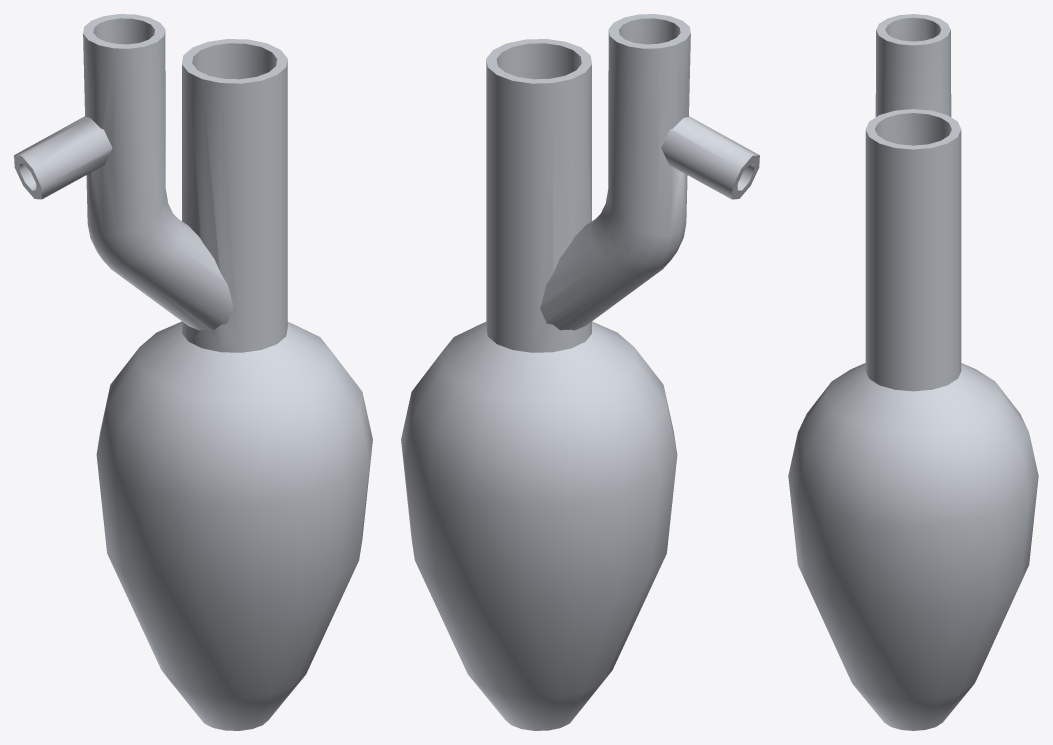
Rendered from bottle_glassware_claisen_flask_medium.glb.
The picture shows the model from 3 angles, left to right: view 1: azimuth 30°, elevation 25°; view 2: azimuth 150°, elevation 25°; view 3: azimuth 270°, elevation 25°; orthographic projection. The views are drawn at different scales.
Visible parts, largest first — view 1: bottle_glassware_claisen_flask_medium; view 2: bottle_glassware_claisen_flask_medium; view 3: bottle_glassware_claisen_flask_medium.
Part boxes in pixels (left/top/right/bottom): bottle_glassware_claisen_flask_medium: left=14, top=14, right=372, bottom=730; bottle_glassware_claisen_flask_medium: left=401, top=14, right=759, bottom=730; bottle_glassware_claisen_flask_medium: left=788, top=14, right=1038, bottom=730.
Size of the model in its own units: 14.8 by 30.75 by 10.7.
Materials: 1 (1 with a texture image).
